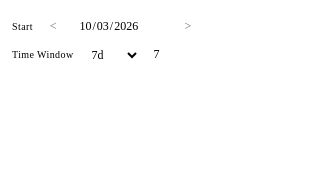
Test case: WindowStartNav — the start field › steps a day at a time, growing and shrinking the window
The end stays put, so an earlier start is a longer window.
What coordinates should you click on to do the following:
click the button named "Start: previous day"
I would click on:
 (53, 26)
Its box is [39, 12, 68, 41].
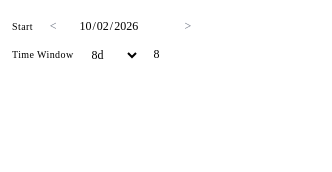
Expected: the date field with test id "window-start" holds "2026-10-02", [70, 12, 170, 41]
Expected: the number field with test id "day-range-custom" holds "8", [146, 41, 210, 69]
What coordinates should you click on to do the following:
click the button named "Start: next day"
I would click on:
 (188, 26)
Its box is [174, 12, 202, 41].
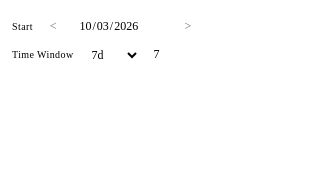
What coordinates should you click on to do the following:
click the button named "Start: next day"
I would click on:
 (188, 26)
Its box is [174, 12, 202, 41].
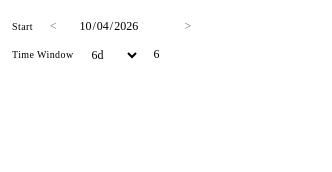
Expected: the number field with test id "day-range-custom" holds "6", [146, 41, 210, 69]
